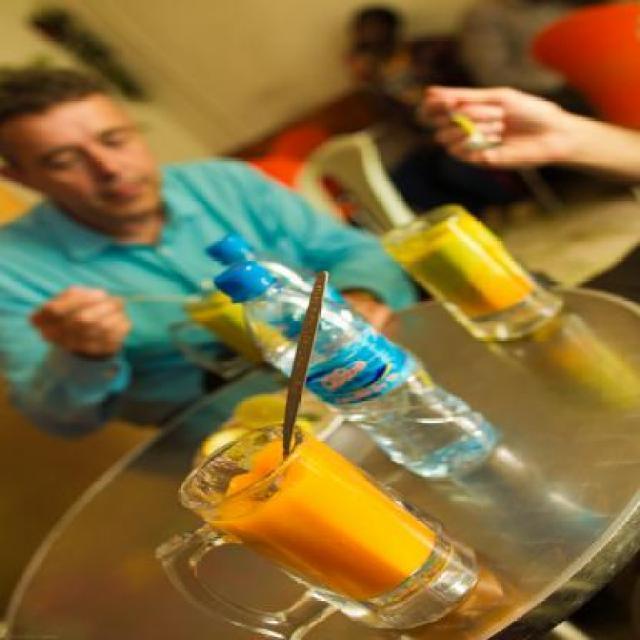Juice: (180, 440, 482, 624), (392, 214, 536, 320), (190, 300, 302, 366)
